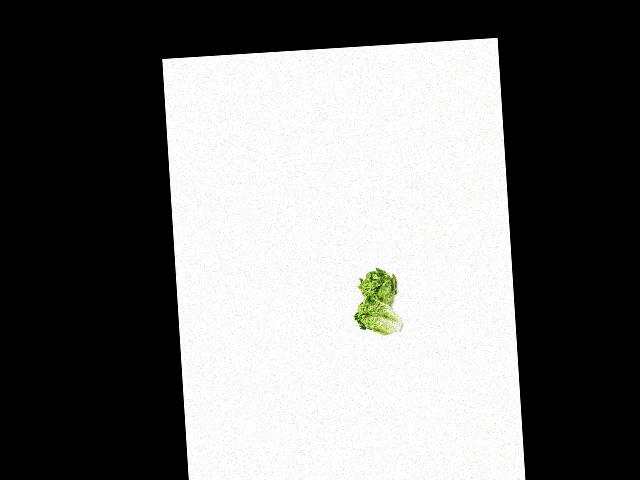lettuce: (356, 266, 404, 311)
